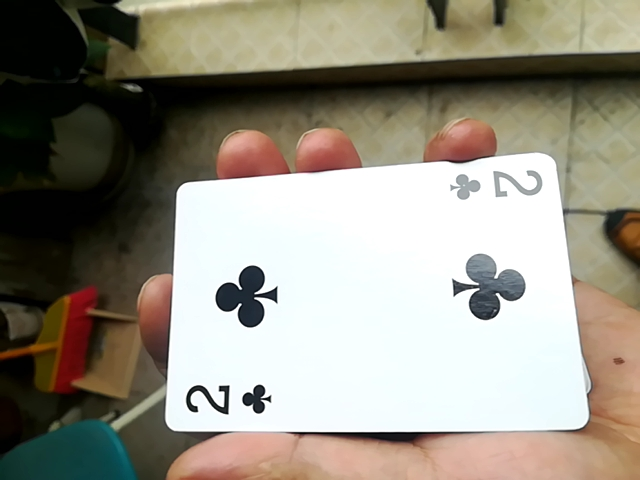mh 2: (158, 149, 578, 446)
